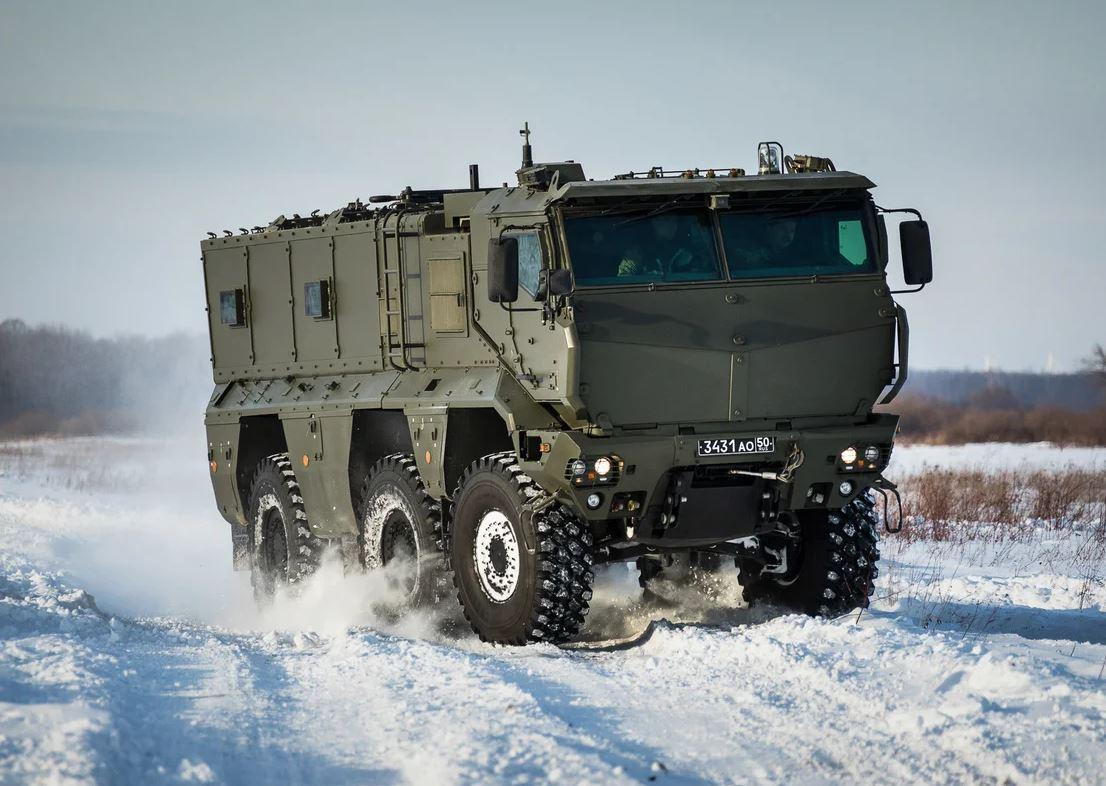truck: (199, 121, 933, 646)
